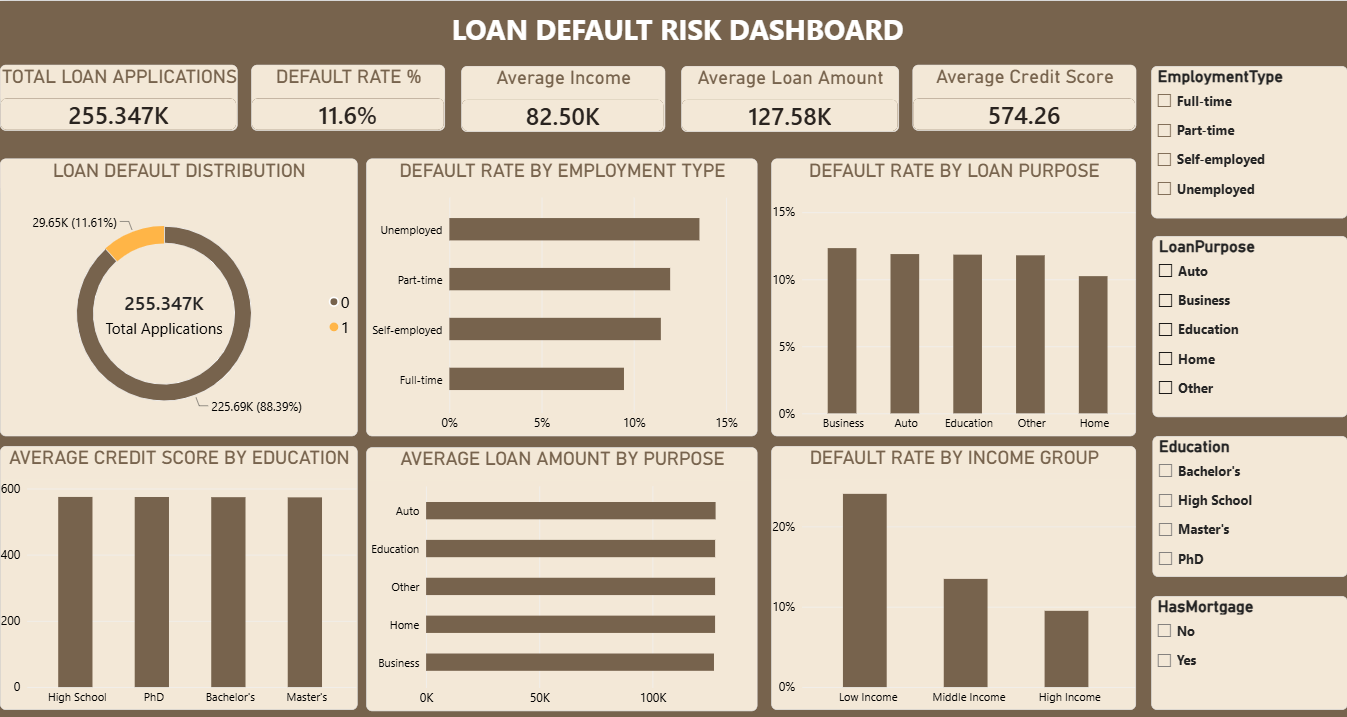

Layout of this report page (visuals, bound fields, positions):
{"tool":"powerbi","page":{"name":"Loan Risk Overview","canvas":[1920,1080],"ordinal":0},"visuals":[{"type":"cardVisual","title":"TOTAL LOAN APPLICATIONS","fields":{"Data":["Count(Loan_default.LoanID)"]},"box":[0,85,316.7,88.3],"z":0},{"type":"cardVisual","title":"DEFAULT RATE %","fields":{"Data":["Loan_default.Default Rate %"]},"box":[335,85,258.3,88.3],"z":2},{"type":"cardVisual","title":"Average Income","fields":{"Data":["Loan_default.Average Income"]},"box":[615,86.7,271.7,88.3],"z":4},{"type":"cardVisual","title":"Average Credit Score","fields":{"Data":["Loan_default.Average Credit Score"]},"box":[1216.7,85,298.3,88.3],"z":5},{"type":"cardVisual","title":"Average Loan Amount","fields":{"Data":["Loan_default.Average Loan Amount"]},"box":[908.3,86.7,290,88.3],"z":6},{"type":"textbox","box":[0,11.7,1806.7,51.7],"z":7},{"type":"donutChart","title":"LOAN DEFAULT DISTRIBUTION","fields":{"Category":["Loan_default.Default"],"Y":["CountNonNull(Loan_default.LoanID)"]},"box":[0,210,476.7,370],"z":8},{"type":"clusteredBarChart","title":"DEFAULT RATE BY EMPLOYMENT TYPE","fields":{"Category":["Loan_default.EmploymentType"],"Y":["Loan_default.Default Rate %"]},"box":[488.3,210,521.7,370],"z":9},{"type":"clusteredColumnChart","title":"DEFAULT RATE BY LOAN PURPOSE","fields":{"Category":["Loan_default.LoanPurpose"],"Y":["Loan_default.Default Rate %"]},"box":[1028.3,210,486.7,370],"z":10},{"type":"clusteredColumnChart","title":"AVERAGE CREDIT SCORE BY EDUCATION","fields":{"Category":["Loan_default.Education"],"Y":["Loan_default.Average Credit Score"]},"box":[0,593.3,476.7,351.7],"z":11},{"type":"clusteredBarChart","title":"AVERAGE LOAN AMOUNT BY PURPOSE","fields":{"Category":["Loan_default.LoanPurpose"],"Y":["Loan_default.Average Loan Amount"]},"box":[488.3,595,521.7,351.7],"z":12},{"type":"clusteredColumnChart","title":"DEFAULT RATE BY INCOME GROUP ","fields":{"Category":["Loan_default.Income Group"],"Y":["Loan_default.Default Rate %"]},"box":[1028.3,593.3,486.7,351.7],"z":13},{"type":"slicer","fields":{"Values":["Loan_default.EmploymentType"]},"box":[1535,86.7,263.3,203.3],"z":14},{"type":"slicer","fields":{"Values":["Loan_default.LoanPurpose"]},"box":[1536.7,313.3,261.7,241.7],"z":15},{"type":"slicer","fields":{"Values":["Loan_default.Education"]},"box":[1536.7,580,261.7,188.3],"z":16},{"type":"slicer","fields":{"Values":["Loan_default.HasMortgage"]},"box":[1535,793.3,263.3,151.7],"z":17}]}

Visuals, with their boxes on the page's 1920x1080 design canvas (x1, y1, x2, y2). These are canvas units, not pixel positions in the 1347x717 screenshot, which may show the page scaled, cropped or inside an application window:
"TOTAL LOAN APPLICATIONS" cardVisual: region(0, 85, 317, 173)
"DEFAULT RATE %" cardVisual: region(335, 85, 593, 173)
"Average Income" cardVisual: region(615, 87, 887, 175)
"Average Credit Score" cardVisual: region(1217, 85, 1515, 173)
"Average Loan Amount" cardVisual: region(908, 87, 1198, 175)
textbox: region(0, 12, 1807, 63)
"LOAN DEFAULT DISTRIBUTION" donutChart: region(0, 210, 477, 580)
"DEFAULT RATE BY EMPLOYMENT TYPE" clusteredBarChart: region(488, 210, 1010, 580)
"DEFAULT RATE BY LOAN PURPOSE" clusteredColumnChart: region(1028, 210, 1515, 580)
"AVERAGE CREDIT SCORE BY EDUCATION" clusteredColumnChart: region(0, 593, 477, 945)
"AVERAGE LOAN AMOUNT BY PURPOSE" clusteredBarChart: region(488, 595, 1010, 947)
"DEFAULT RATE BY INCOME GROUP " clusteredColumnChart: region(1028, 593, 1515, 945)
slicer - Loan_default.EmploymentType: region(1535, 87, 1798, 290)
slicer - Loan_default.LoanPurpose: region(1537, 313, 1798, 555)
slicer - Loan_default.Education: region(1537, 580, 1798, 768)
slicer - Loan_default.HasMortgage: region(1535, 793, 1798, 945)
